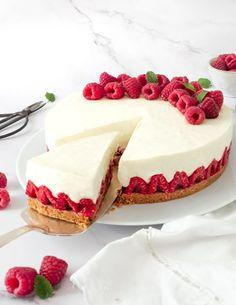Tart: (20, 67, 235, 230)
